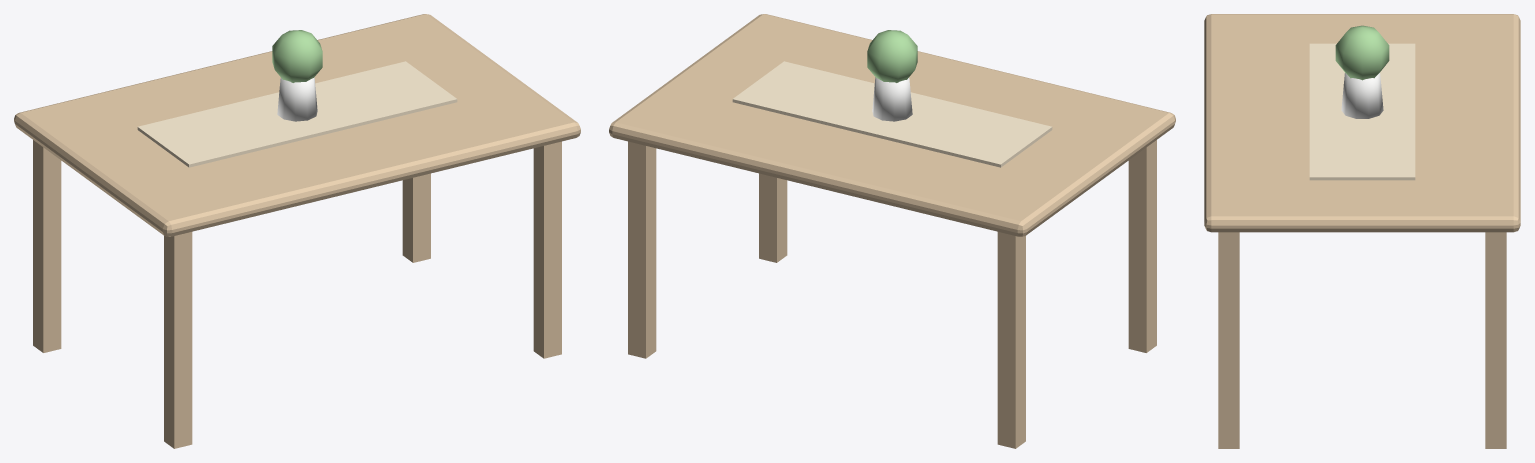
Rendered from mesa_jantar.glb.
The picture shows the model from 3 angles, left to right: view 1: azimuth 30°, elevation 25°; view 2: azimuth 150°, elevation 25°; view 3: azimuth 270°, elevation 25°; orthographic projection. The views are drawn at different scales.
Visible parts, largest first — view 1: mesa_jantar; view 2: mesa_jantar; view 3: mesa_jantar.
Boxes of the visible parts, left/top/right/bottom form: mesa_jantar: left=14, top=14, right=580, bottom=448; mesa_jantar: left=609, top=14, right=1175, bottom=448; mesa_jantar: left=1204, top=14, right=1520, bottom=448.
Bounding box in the file's own units: 1.4 × 1.02 × 0.9.
